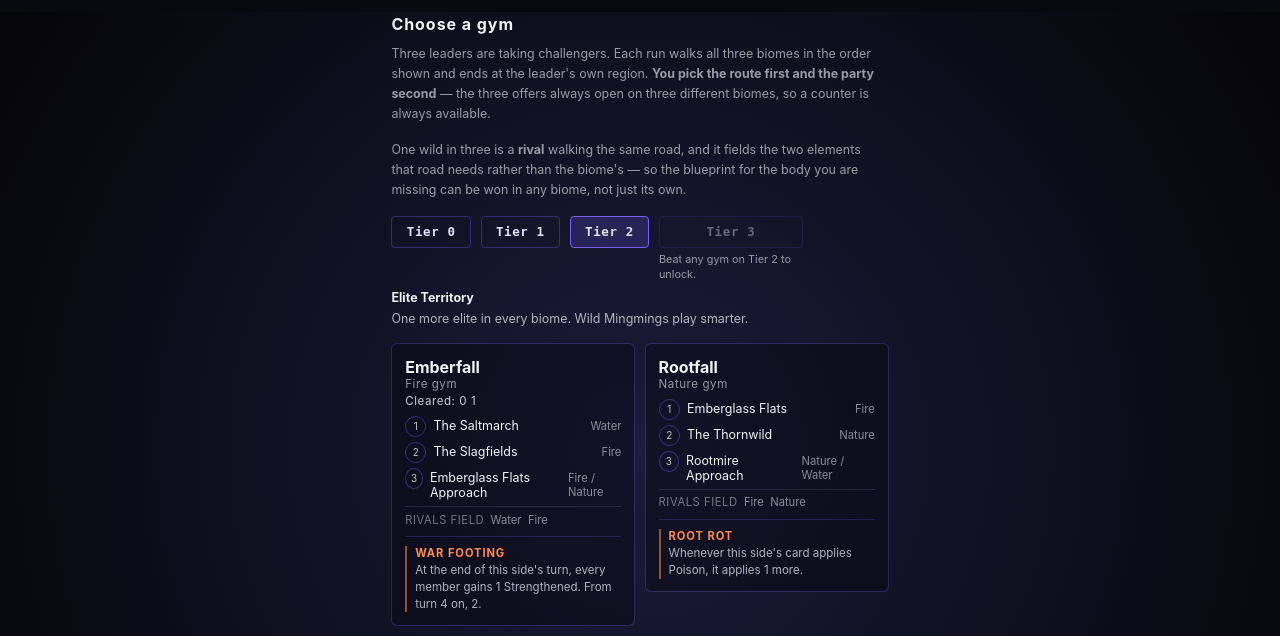
Test: the tier picker › prints the selected tier’s name and description, and follows a click
Step 1. Click the button "Tier 1" → (520, 232), box left=480, top=216, right=560, bottom=248
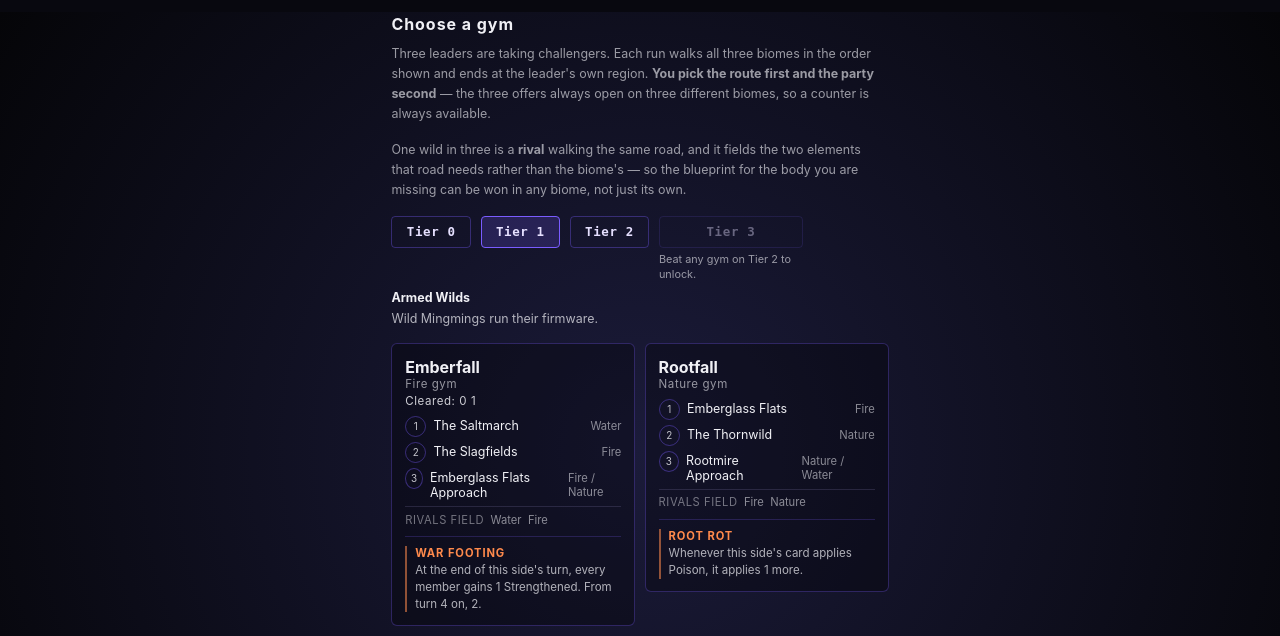
Expected: the text "Armed Wilds" is shown, left=391, top=290, right=470, bottom=305
Expected: the text "Wild Mingmings run their firmware." is shown, left=391, top=311, right=598, bottom=326
